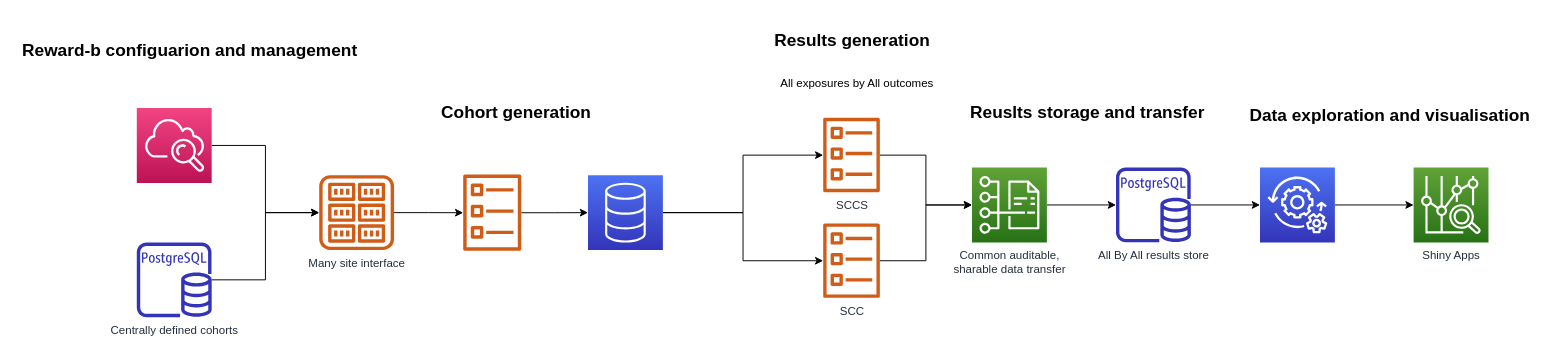
Some shapes in this 1554 by 354 pixel diagram are drawn without their labels. The shapes that lost their labels are listed below. From the top down, each one's centre as x and y in pixels, then its label:
At [174,145]: "Import Atlas Cohorts and concept sets".
At [492,212]: "Create Cohorts".
At [625,212]: "CDM".
At [1297,204]: "Empirical Calibration and Meta analysis".
